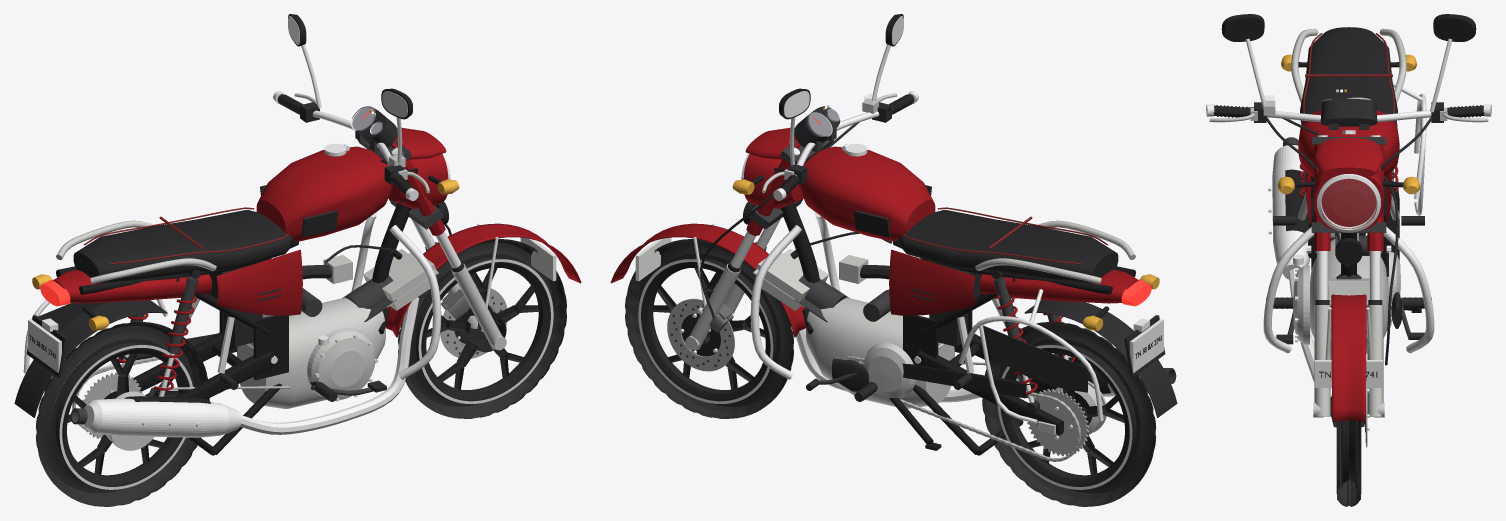
Rendered from moto_commuter.glb.
The picture shows the model from 3 angles, left to right: view 1: azimuth 30°, elevation 25°; view 2: azimuth 150°, elevation 25°; view 3: azimuth 270°, elevation 25°; orthographic projection. The views are drawn at different scales.
Parts seen in each view (by area): view 1: Body, Handlebar, WR_Wheel, WF_Wheel, Brightwork, Engine, Details, Blackwork, Frame, Grip; view 2: WR_Wheel, WF_Wheel, Handlebar, Body, Blackwork, Details, Engine, Brightwork, Frame, Grip; view 3: Handlebar, Details, Brightwork, Engine, Body, WF_Wheel, Blackwork, Frame, Grip.
Part boxes in pixels (bbox=[...]): Body: bbox=[53, 146, 393, 315]; Handlebar: bbox=[288, 14, 581, 350]; WR_Wheel: bbox=[35, 321, 209, 506]; WF_Wheel: bbox=[398, 239, 566, 418]; Brightwork: bbox=[23, 143, 441, 437]; Engine: bbox=[109, 249, 438, 450]; Details: bbox=[28, 207, 386, 430]; Blackwork: bbox=[14, 185, 402, 455]; Frame: bbox=[56, 203, 411, 398]; Grip: bbox=[273, 91, 418, 200]; WR_Wheel: bbox=[982, 321, 1156, 506]; WF_Wheel: bbox=[625, 239, 793, 418]; Handlebar: bbox=[610, 14, 903, 350]; Body: bbox=[798, 146, 1138, 315]; Blackwork: bbox=[790, 185, 1177, 455]; Details: bbox=[806, 207, 1163, 461]; Engine: bbox=[753, 249, 1106, 432]; Brightwork: bbox=[750, 143, 1149, 423]; Frame: bbox=[780, 203, 1135, 435]; Grip: bbox=[773, 91, 918, 200]; Handlebar: bbox=[1209, 14, 1488, 421]; Details: bbox=[1266, 27, 1431, 344]; Brightwork: bbox=[1263, 28, 1434, 388]; Engine: bbox=[1293, 233, 1400, 353]; Body: bbox=[1298, 110, 1399, 223]; WF_Wheel: bbox=[1330, 388, 1369, 506]; Blackwork: bbox=[1283, 106, 1421, 337]; Frame: bbox=[1298, 176, 1399, 307]; Grip: bbox=[1206, 104, 1491, 117].
Size of the model in its own units: 1.96 by 1.35 by 0.8448.
